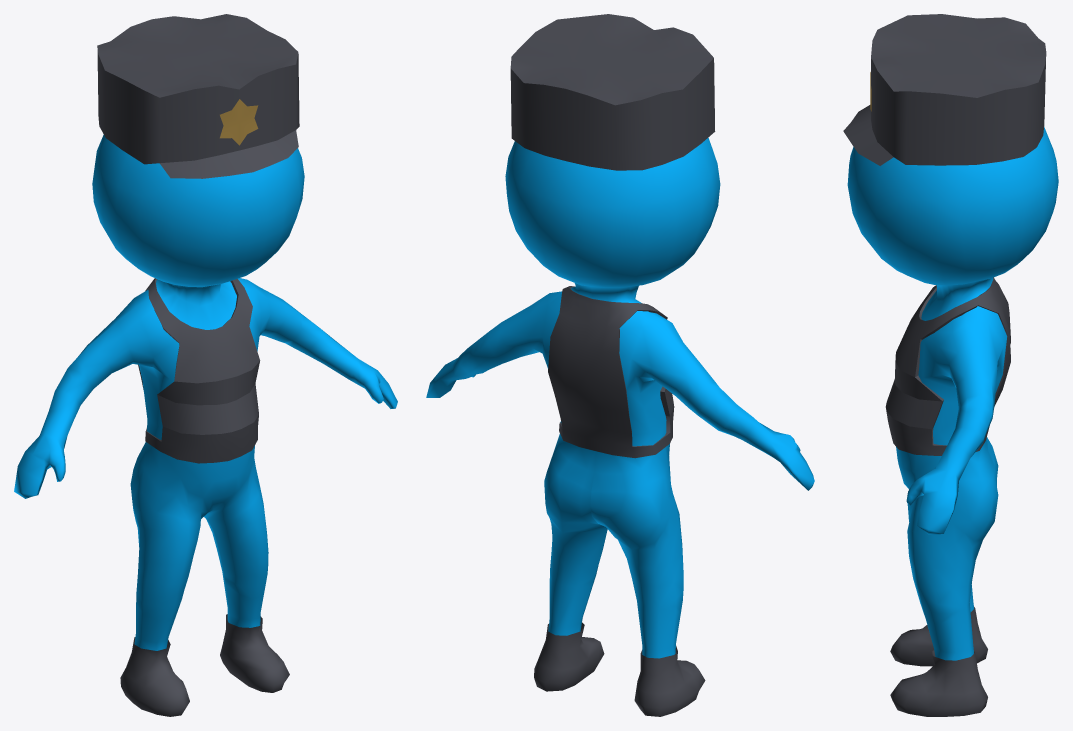
The model's file is Human_3.fbx.
The picture shows the model from 3 angles, left to right: view 1: azimuth 30°, elevation 25°; view 2: azimuth 150°, elevation 25°; view 3: azimuth 270°, elevation 25°; orthographic projection.
Parts seen in each view (by area): view 1: pCylinder2; view 2: pCylinder2; view 3: pCylinder2.
Boxes of the visible parts, <box> form: pCylinder2: <box>14,14,397,716</box>; pCylinder2: <box>426,14,814,716</box>; pCylinder2: <box>843,14,1058,716</box>.
Size of the model in its own units: 1.23 by 1.96 by 0.6055.
